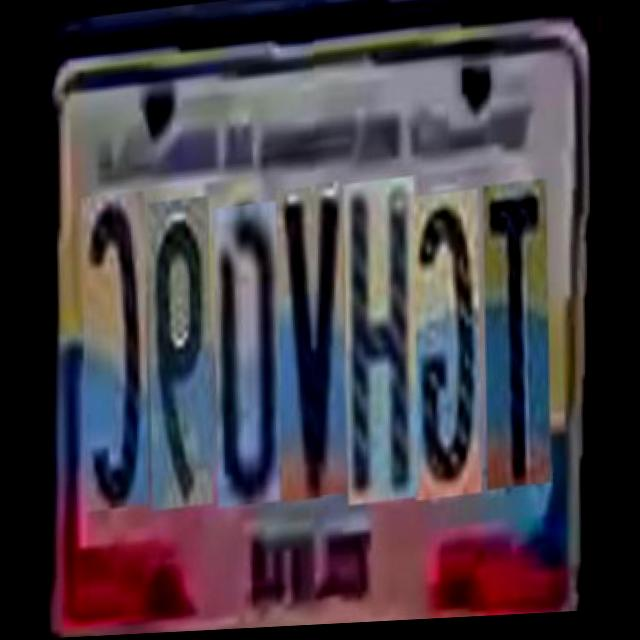0: (209, 196, 282, 502)
9: (144, 189, 215, 502)
c: (76, 182, 151, 501)
g: (407, 192, 485, 501)
h: (340, 176, 421, 504)
t: (479, 183, 553, 492)
v: (272, 179, 348, 497)
